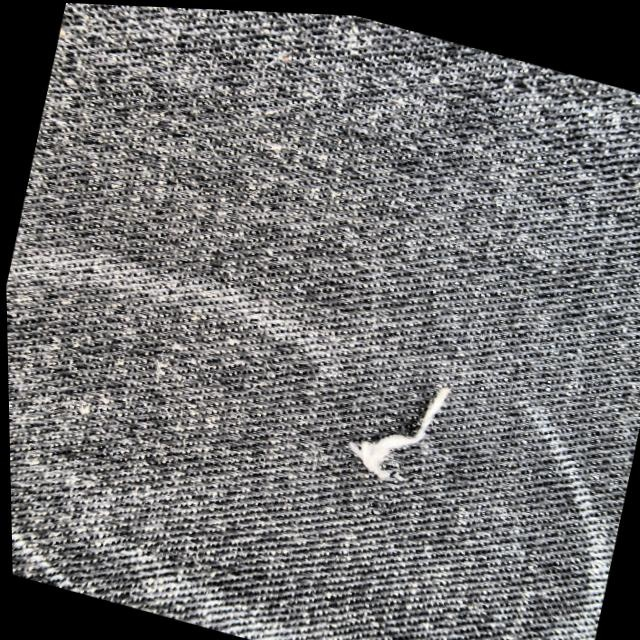Stitch: (263, 312, 533, 561)
